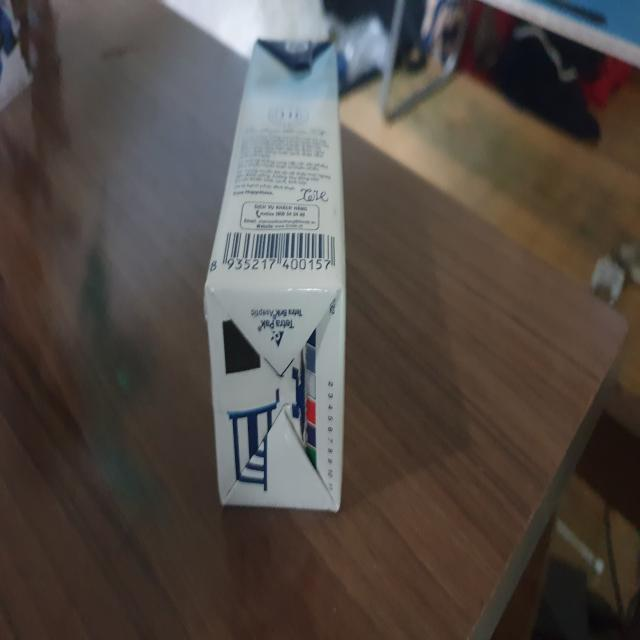TH: (205, 40, 351, 516)
